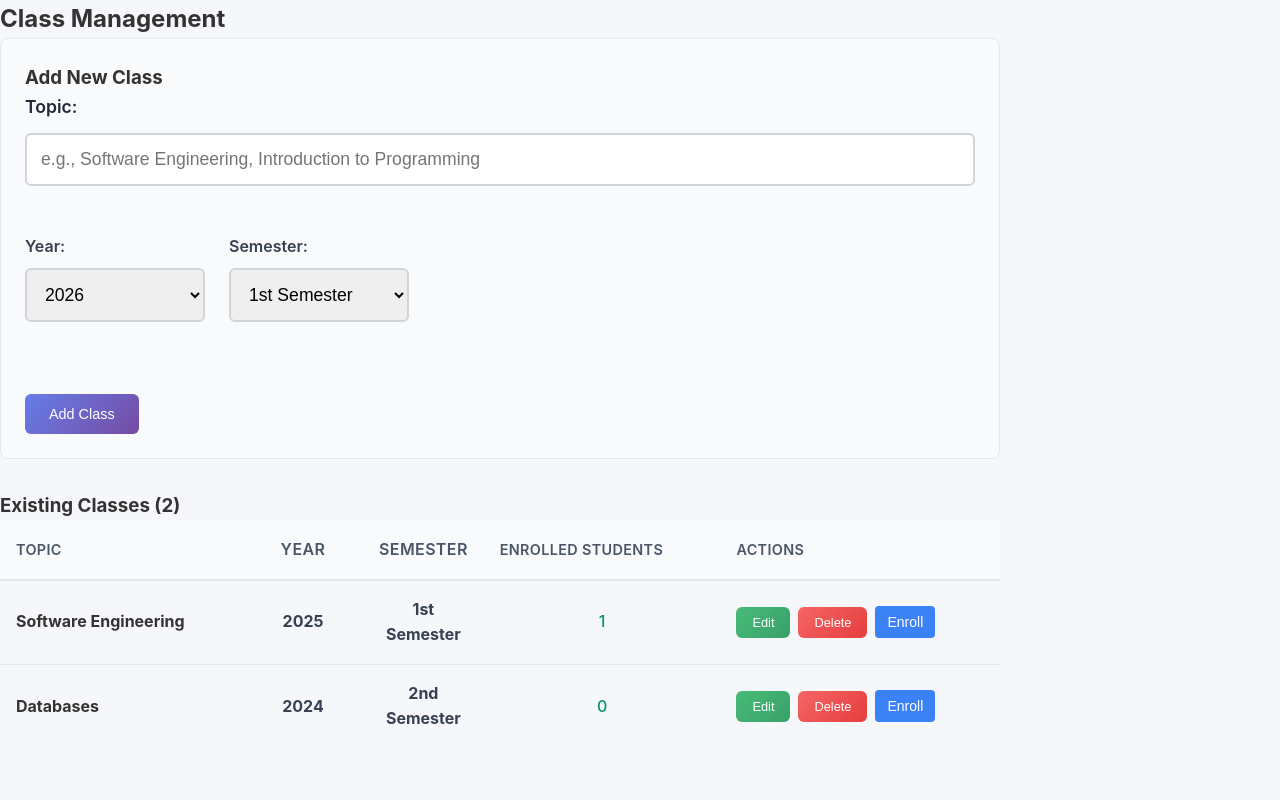
Classes › the enrollment panel says so when every student is already enrolled, and can be closed
Click the button "Enroll" in the row of "Software Engineering" at (905, 622), box top-left (876, 606), bottom-right (935, 638)
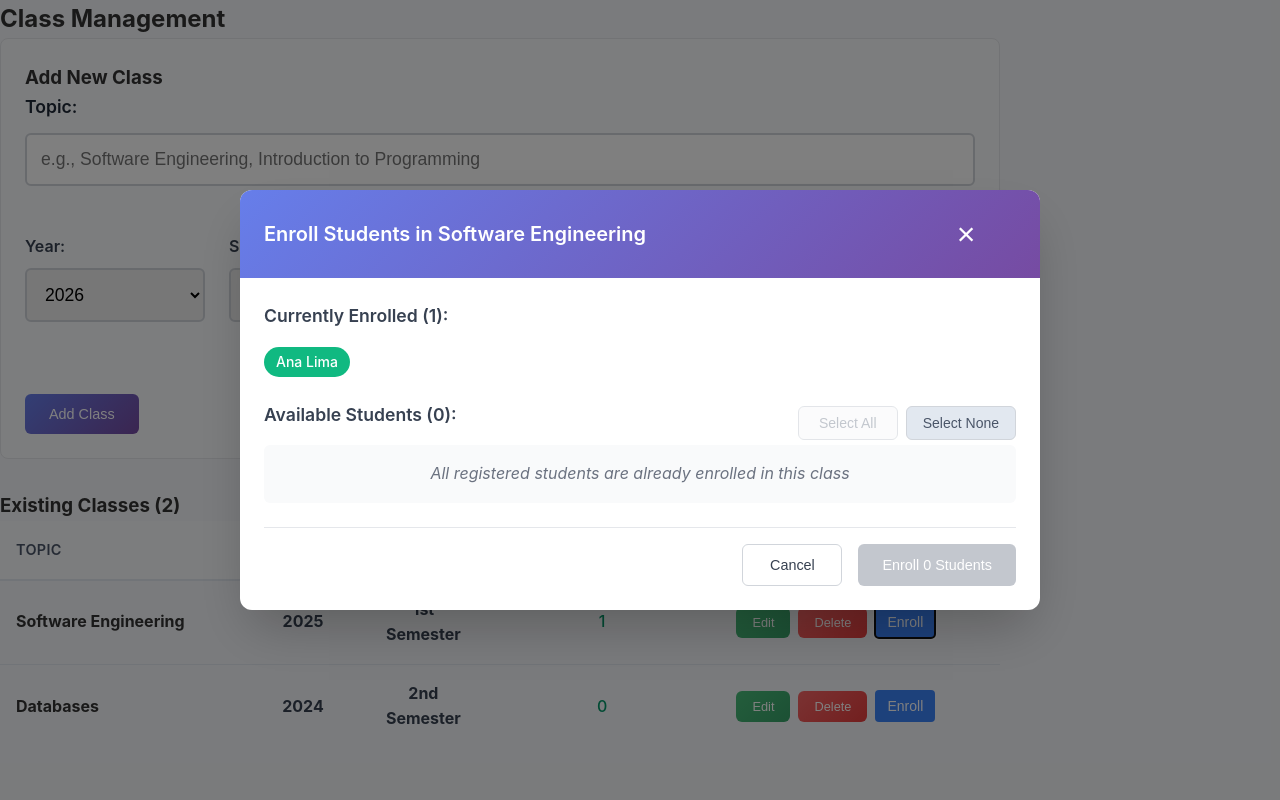
Now the text "All registered students are already enrolled in this class" is shown, box top-left (264, 445), bottom-right (1016, 503)
Now the button "Select All" is disabled, box top-left (798, 406), bottom-right (898, 440)
Click the button titled "Close" at (966, 234), box top-left (916, 214), bottom-right (1016, 254)
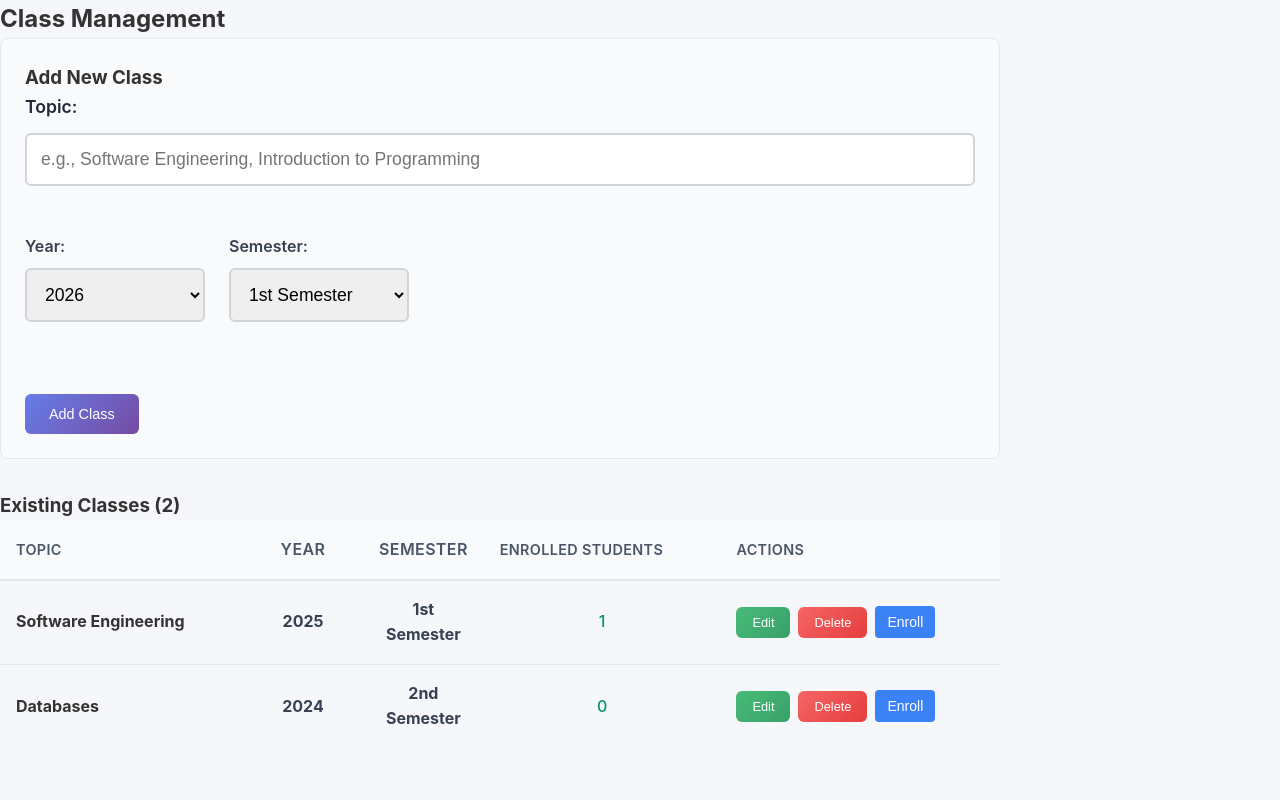
Now the heading "Enroll Students in" is gone
